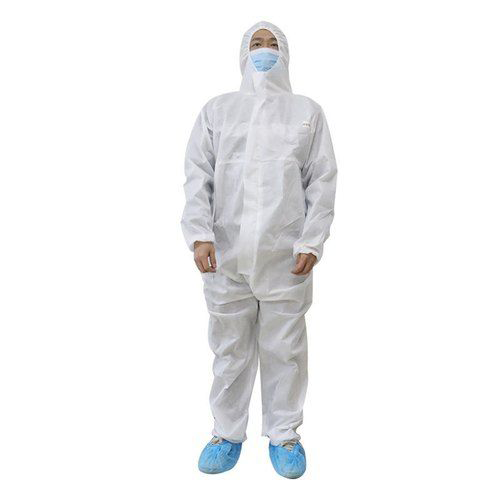Coverall: (180, 19, 338, 440)
with_mask: (249, 39, 281, 73)
